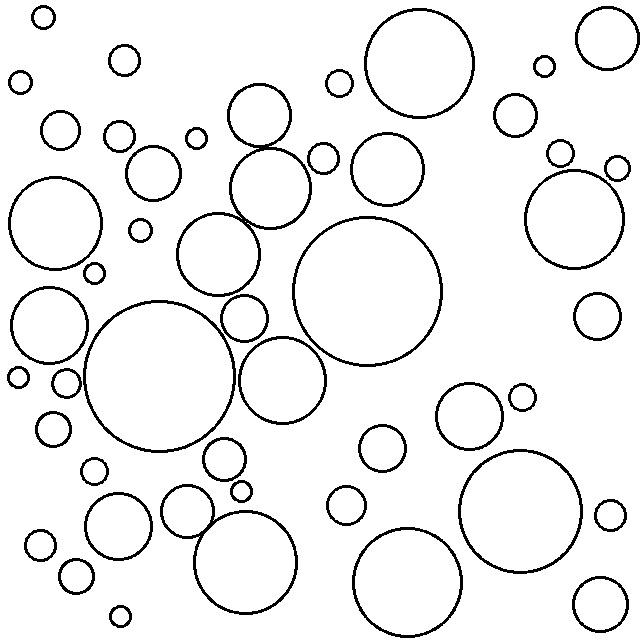circle: (83, 296, 238, 457), (291, 213, 447, 368), (457, 445, 586, 578), (362, 4, 479, 122), (349, 525, 465, 637), (190, 509, 303, 619), (520, 166, 628, 272), (7, 171, 106, 274), (236, 335, 328, 427), (176, 208, 265, 298), (226, 143, 314, 232), (8, 282, 93, 365), (348, 130, 429, 210), (432, 379, 506, 455), (82, 489, 156, 564), (224, 78, 296, 150), (572, 4, 640, 74), (570, 570, 632, 635), (123, 143, 186, 205), (158, 481, 217, 542), (354, 419, 409, 476), (570, 288, 623, 346), (218, 293, 272, 345), (490, 90, 541, 142), (200, 434, 250, 485), (323, 479, 371, 530), (37, 108, 85, 154), (54, 556, 101, 598), (33, 408, 75, 450), (591, 494, 631, 536), (21, 525, 61, 566), (106, 39, 144, 80), (305, 139, 343, 178), (101, 117, 139, 155), (49, 362, 83, 404), (322, 65, 357, 101), (543, 133, 578, 169), (78, 452, 110, 489), (26, 0, 60, 33), (507, 380, 540, 413), (7, 64, 36, 100), (125, 211, 156, 244), (530, 49, 560, 83), (603, 150, 632, 183), (184, 120, 212, 154), (106, 600, 135, 631), (81, 259, 110, 287), (5, 364, 34, 392), (226, 476, 255, 504)
